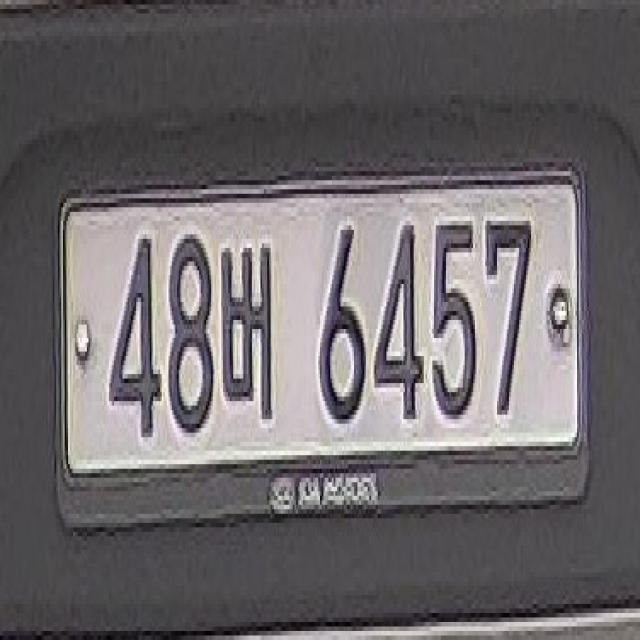plat: (55, 160, 589, 524)
